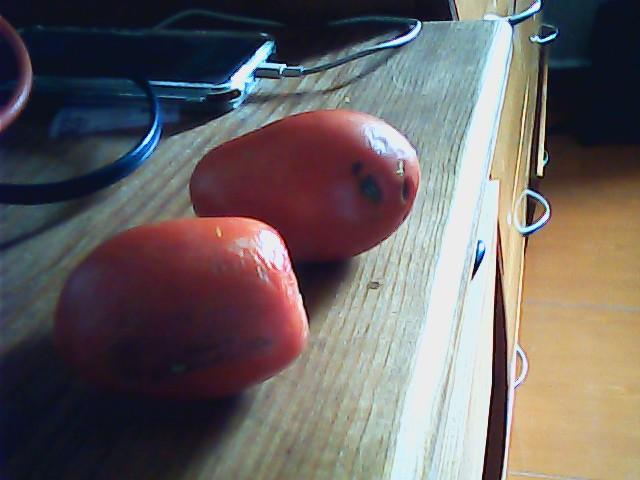defectuoso: (50, 212, 311, 404), (188, 108, 421, 263)
